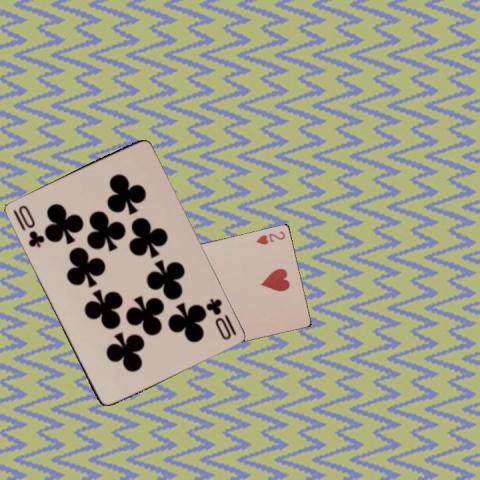10c: (9, 202, 46, 249), (203, 295, 237, 341)
2h: (252, 229, 286, 246)
